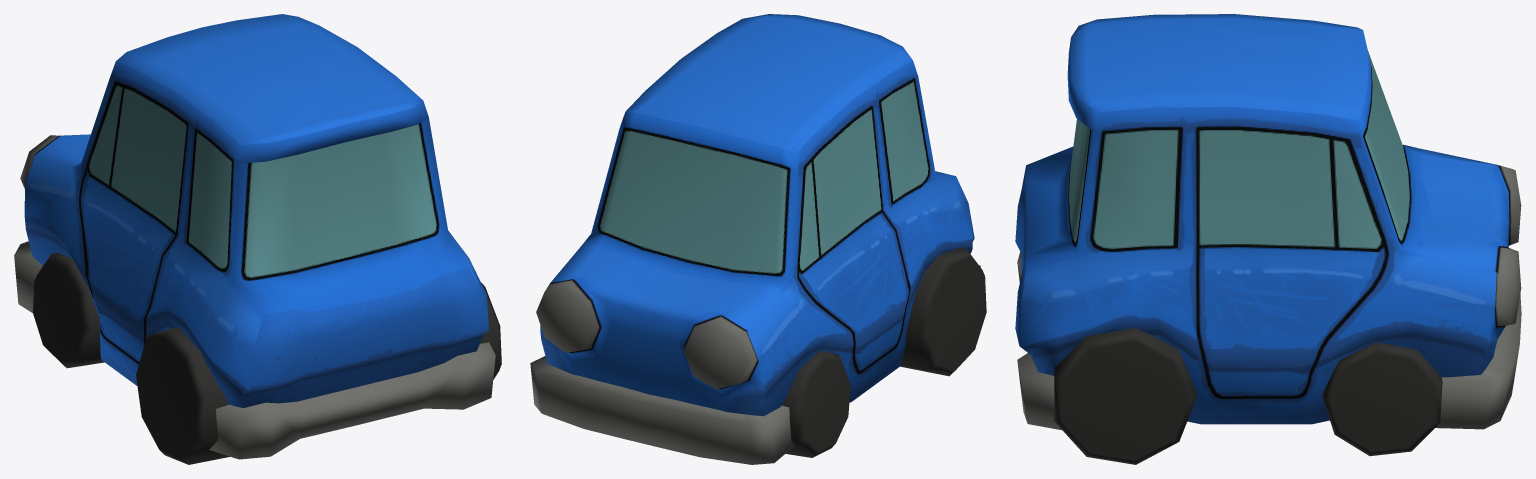
File: Cars.glb
3 views of the same model, side by side, from view 1: azimuth 30°, elevation 25°; view 2: azimuth 150°, elevation 25°; view 3: azimuth 270°, elevation 25° (orthographic). The views are drawn at different scales.
Visible parts, largest first — view 1: Car_A; view 2: Car_A; view 3: Car_A.
Part boxes in pixels (x1,y1,x2,y2): Car_A: [14, 14, 501, 464]; Car_A: [530, 14, 986, 464]; Car_A: [1015, 14, 1521, 464].
Size of what is drawn, in the model's own units: 2.03 by 2.05 by 2.76.
Materials: 1 (1 with a texture image).
